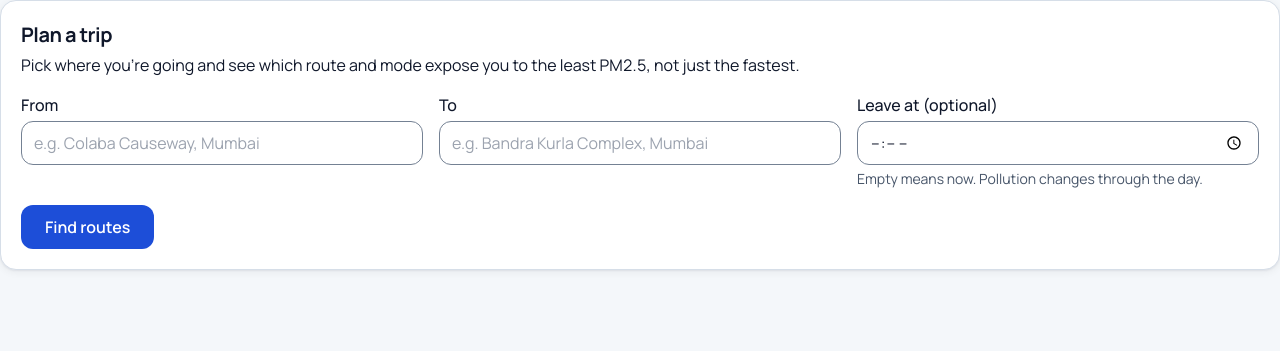
Scenario: RoutePlanner › shows a readable alert for ROUTE_UNAVAILABLE
The image size is (1280, 351).
Type "Nowhere" into the field labelled "From".
click(222, 143); type("Nowhere")  # box left=21, top=121, right=423, bottom=165
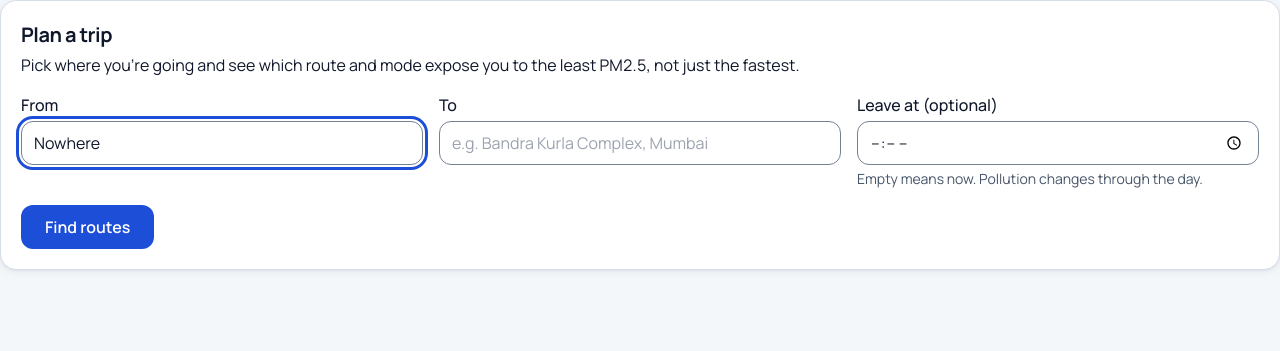
Type "Elsewhere" into the field labelled "To".
click(640, 143); type("Elsewhere")  # box left=439, top=121, right=841, bottom=165
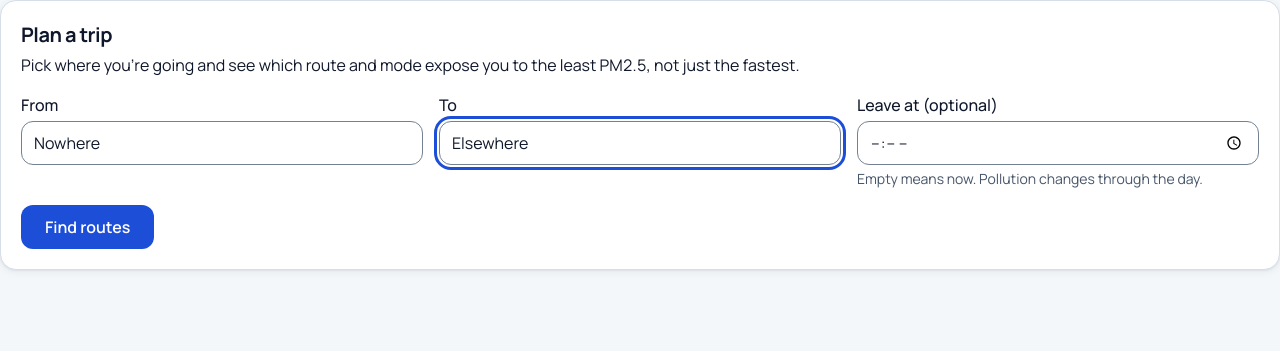
Click the button "Find routes".
click(88, 227)  # box left=21, top=205, right=154, bottom=249
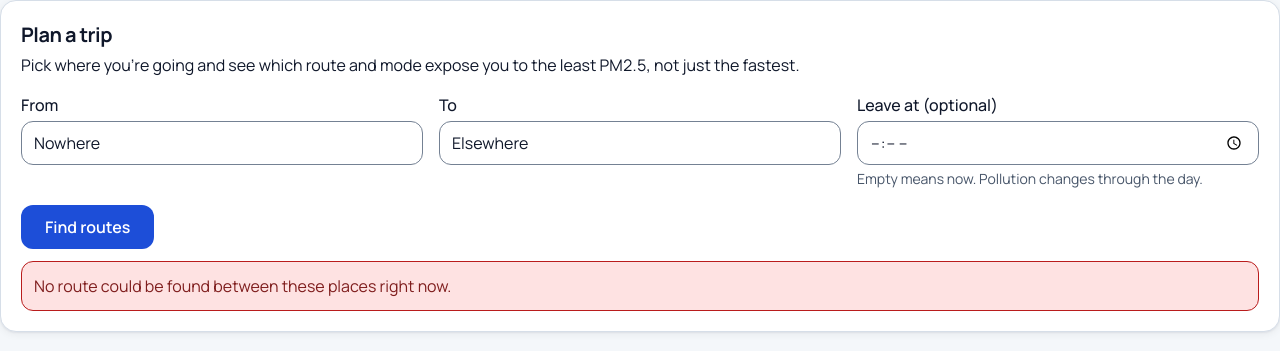
Result: the message reads "No route could be found between these places right now." at left=34, top=275, right=451, bottom=297
